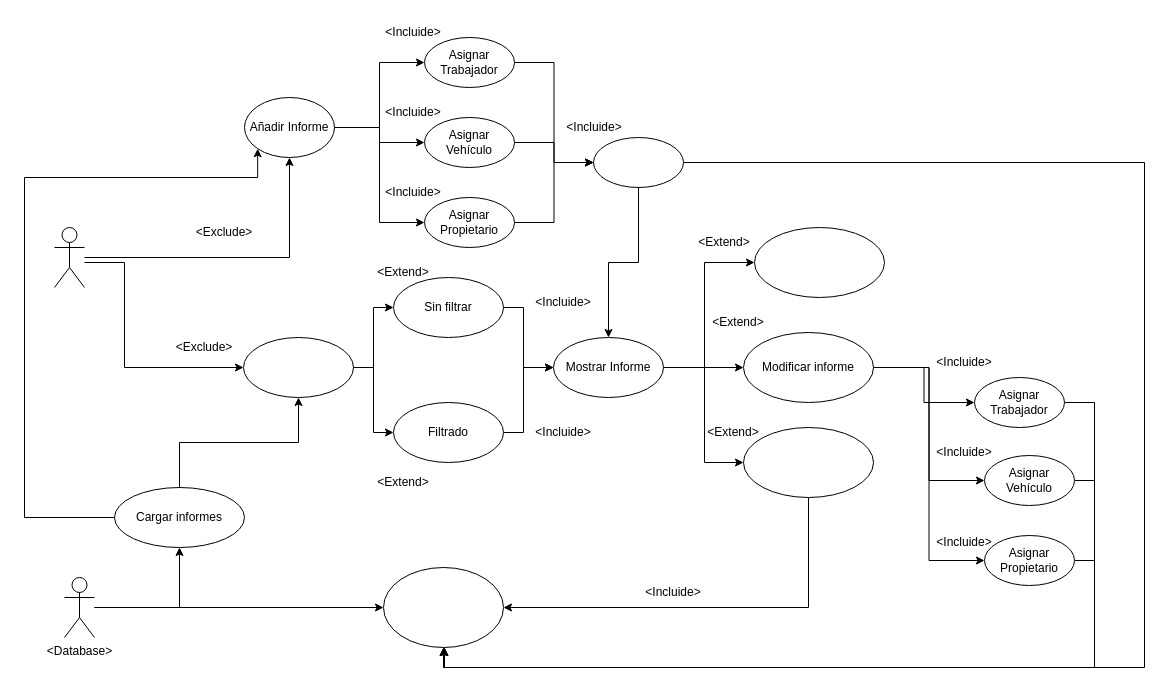
This 1170x693 diagram has some shape labels left out. The shapes that lost their labels are listed below. From the top down, each one's box as (x1, y1, x2, y2) in pixels, then its label:
(592, 136, 684, 188): Guardar informe
(54, 226, 84, 288): <Trabajador>
(754, 226, 884, 298): Ver informe Completo
(242, 336, 354, 398): Buscar Informe
(742, 426, 874, 498): Eliminar Informe
(382, 566, 504, 648): Guardar Cambios BD
